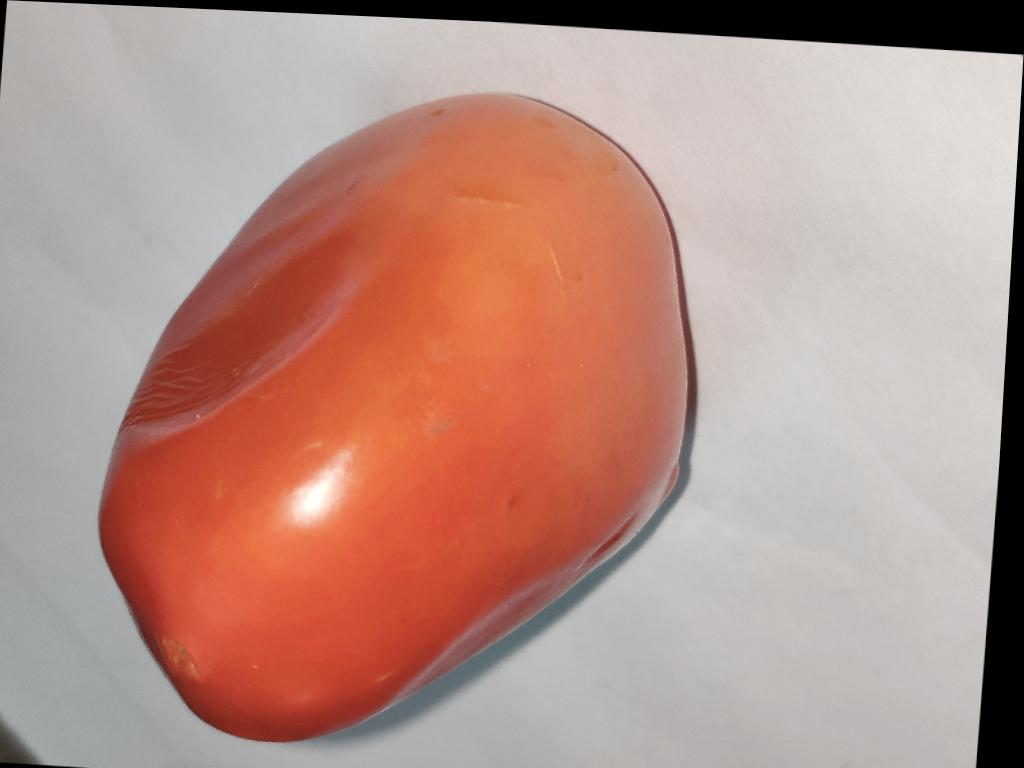bruise_discoloration: (126, 225, 369, 426)
tomato: (99, 96, 685, 740)
